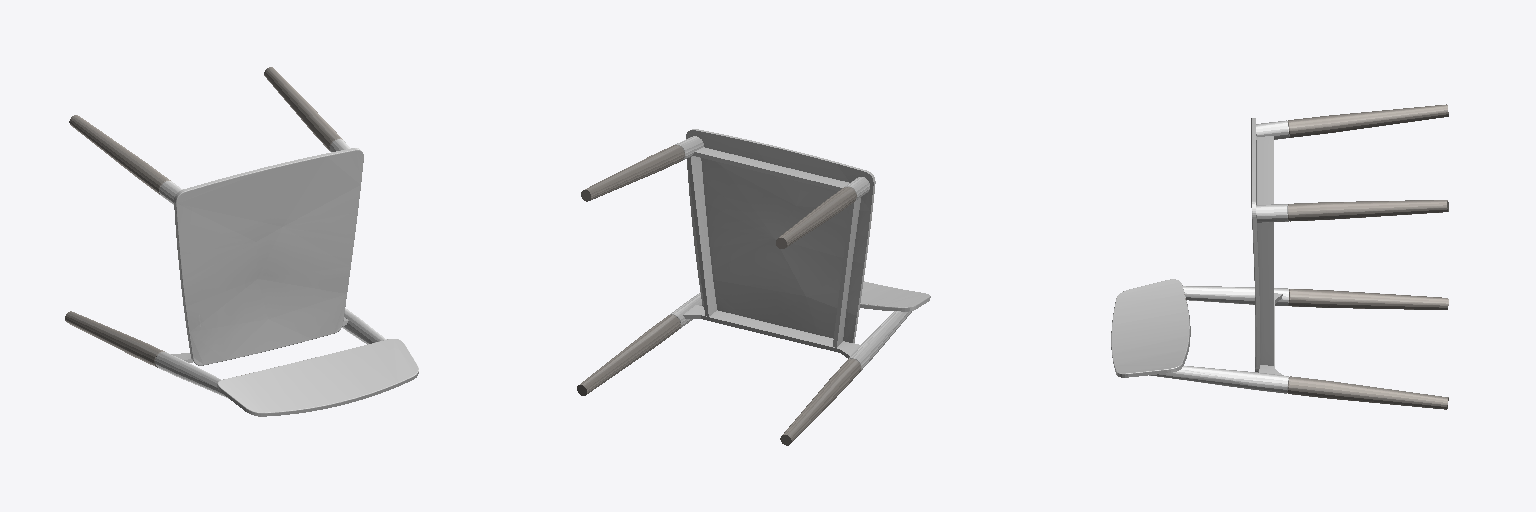
3 views of the same model, side by side, from view 1: azimuth 30°, elevation 25°; view 2: azimuth 150°, elevation 25°; view 3: azimuth 270°, elevation 25° (orthographic).
Bounding box in the file's own units: 0.553 × 0.5101 × 0.7541.
1 materials, 1 textured.